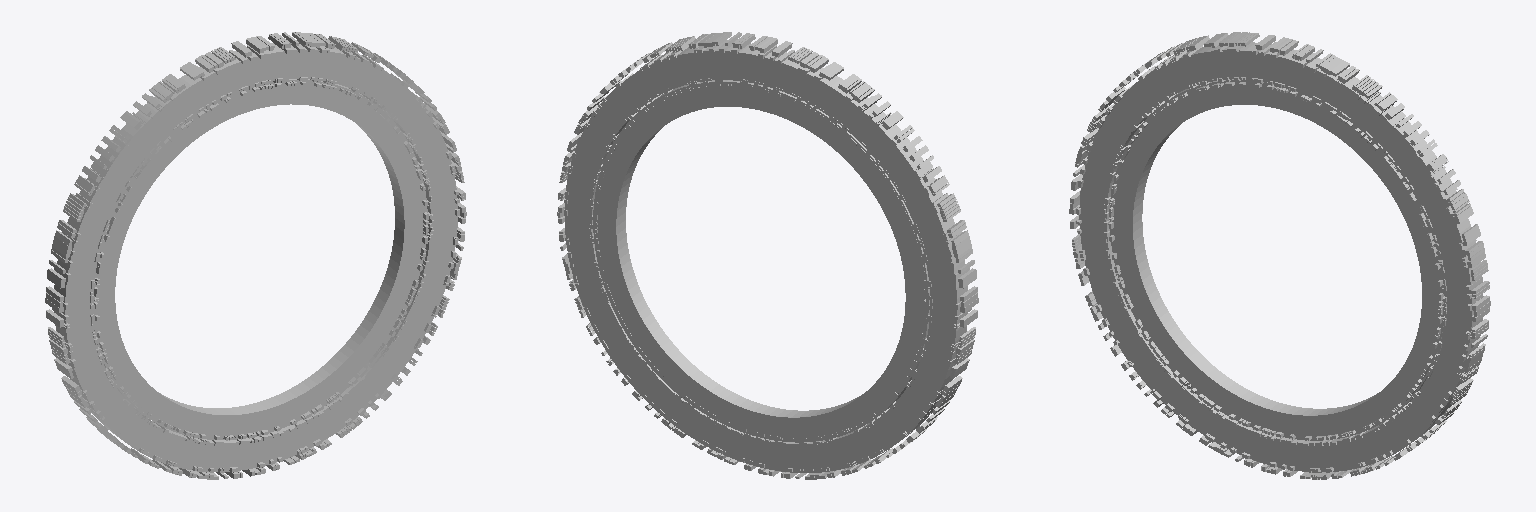
The model's file is space_station.obj.
3 renders of one model, left to right at view 1: azimuth 30°, elevation 25°; view 2: azimuth 150°, elevation 25°; view 3: azimuth 330°, elevation 25°, orthographic.
Visible parts, largest first — view 1: Shape005, Shape1, Shape004, Shape003; view 2: Shape005, Shape1, Shape004, Shape003; view 3: Shape005, Shape1, Shape004, Shape003.
Part boxes in pixels (x1,y1,x2,y2): Shape005: (54, 43, 457, 471); Shape1: (92, 79, 427, 439); Shape004: (45, 32, 466, 479); Shape003: (90, 77, 433, 445); Shape005: (565, 44, 967, 472); Shape1: (593, 80, 929, 442); Shape004: (557, 32, 978, 479); Shape003: (589, 78, 932, 446); Shape005: (1079, 42, 1482, 472); Shape1: (1110, 79, 1444, 440); Shape004: (1069, 32, 1490, 479); Shape003: (1103, 77, 1446, 446).
Bounding box in the file's own units: 9.64 × 9.63 × 0.5725.